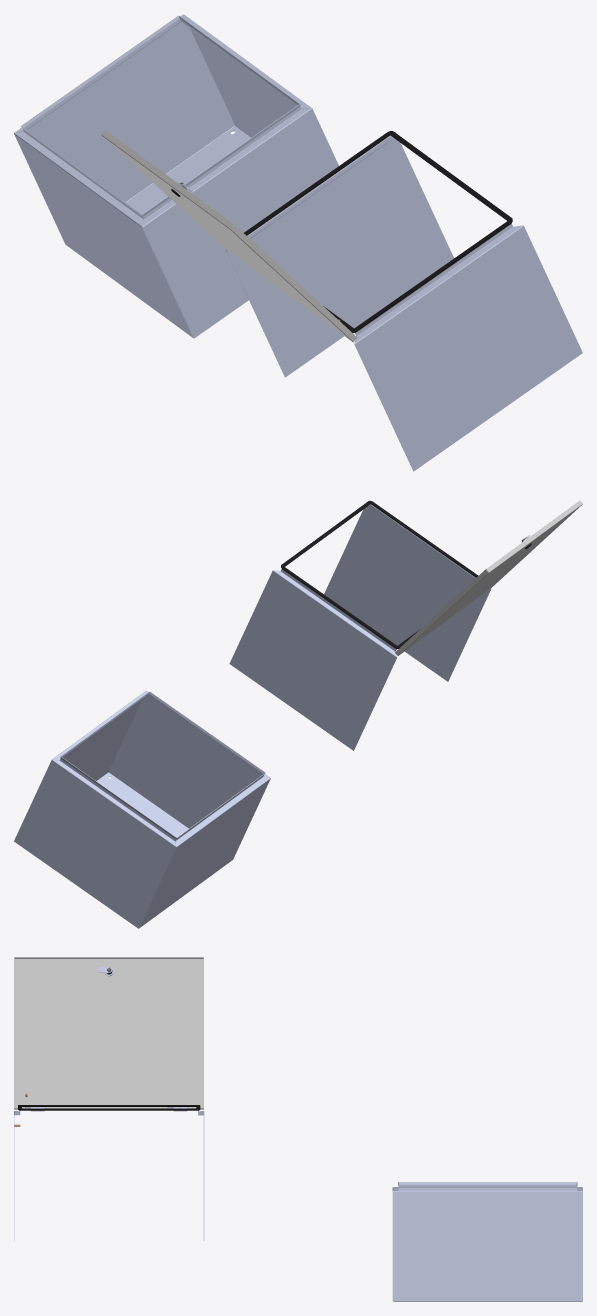
The model's file is caja_hammond.glb.
3 views of the same model, one above another, from view 1: azimuth 30°, elevation 25°; view 2: azimuth 150°, elevation 25°; view 3: azimuth 270°, elevation 25° (orthographic). The views are drawn at different scales.
Visible parts, largest first — view 1: COM55773-3.stp-1, COM55773-3.stp-002, COM55773-3.stp-1_top_bottom_part_ab_Predeterminado, COM55772-3.stp-1_sides_parasolid_part_ab_Predeterminado, COM55773-3.stp-1_top_bottom_part_ab_Predeterminado001, COM52804-0.stp-1, COM70219_oa_0.stp-1; view 2: COM55773-3.stp-002, COM55773-3.stp-1_top_bottom_part_ab_Predeterminado, COM55773-3.stp-1, COM55773-3.stp-1_top_bottom_part_ab_Predeterminado001, COM55772-3.stp-1_sides_parasolid_part_ab_Predeterminado, COM52804-0.stp-1, COM70219_oa_0.stp-1; view 3: COM52804-0.stp-1, COM55772-3.stp-1_sides_parasolid_part_ab_Predeterminado, COM70219_oa_0.stp-1.
Part boxes in pixels (x1,y1,x2,y2): COM55773-3.stp-1: [354, 223, 582, 471]; COM55773-3.stp-002: [226, 132, 453, 377]; COM55773-3.stp-1_top_bottom_part_ab_Predeterminado: [14, 14, 234, 202]; COM55772-3.stp-1_sides_parasolid_part_ab_Predeterminado: [14, 14, 338, 338]; COM55773-3.stp-1_top_bottom_part_ab_Predeterminado001: [142, 104, 338, 337]; COM52804-0.stp-1: [101, 130, 357, 342]; COM70219_oa_0.stp-1: [244, 131, 512, 332]; COM55773-3.stp-002: [229, 569, 397, 750]; COM55773-3.stp-1_top_bottom_part_ab_Predeterminado: [14, 757, 176, 928]; COM55773-3.stp-1: [324, 501, 491, 681]; COM55773-3.stp-1_top_bottom_part_ab_Predeterminado001: [108, 691, 269, 828]; COM55772-3.stp-1_sides_parasolid_part_ab_Predeterminado: [14, 691, 270, 928]; COM52804-0.stp-1: [395, 500, 582, 655]; COM70219_oa_0.stp-1: [281, 500, 478, 648]; COM52804-0.stp-1: [14, 957, 203, 1109]; COM55772-3.stp-1_sides_parasolid_part_ab_Predeterminado: [393, 1182, 582, 1301]; COM70219_oa_0.stp-1: [18, 1105, 200, 1110].
Size of the model in its own units: 1.07 by 0.928 by 1.82.
